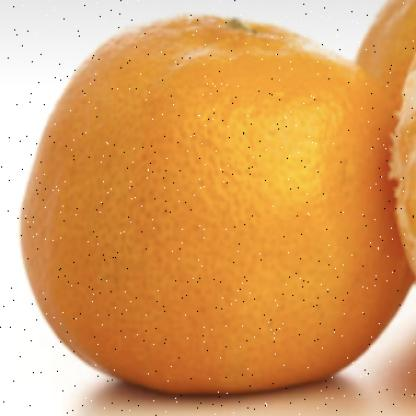orange: (19, 13, 401, 407)
